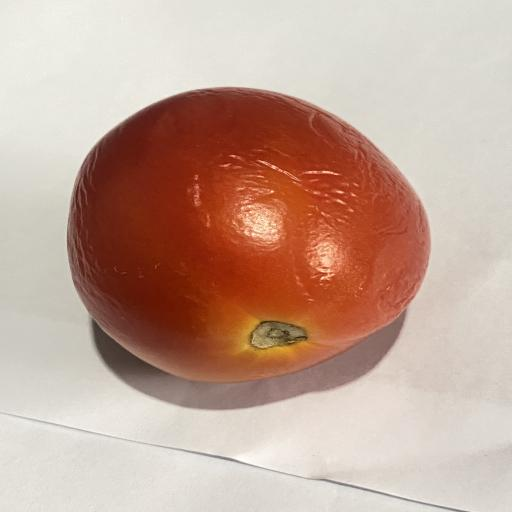spoiled: (154, 263, 163, 270)
